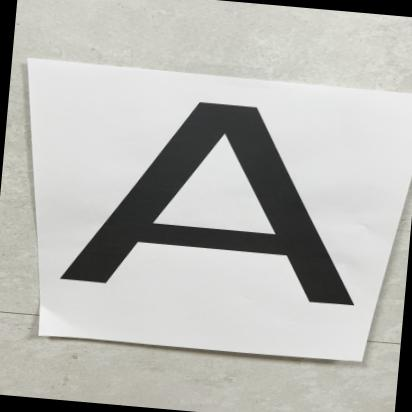seat: (52, 73, 368, 320)
